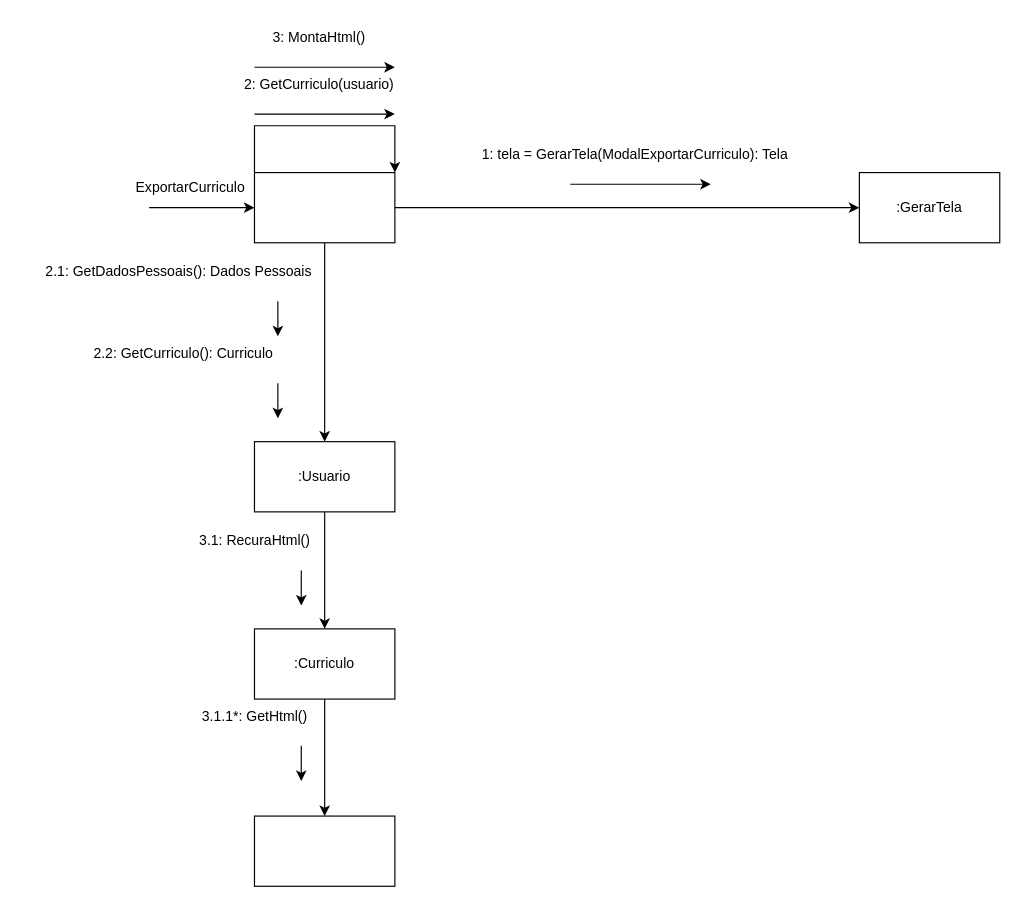
The diagram is 1020 pixels wide and 907 high, and some of its shapes have lost their labels. The centre of each missing label's shape, as x and y in pixels:
":CampoCurriculo" goes at [324,850].
":Sistema" goes at [324,207].
